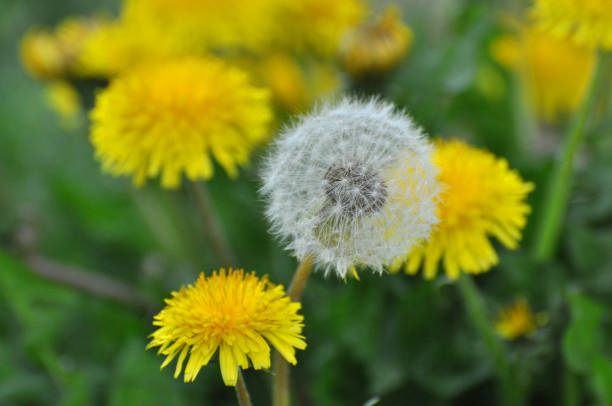dandelion: (141, 256, 311, 383), (82, 66, 273, 175)
